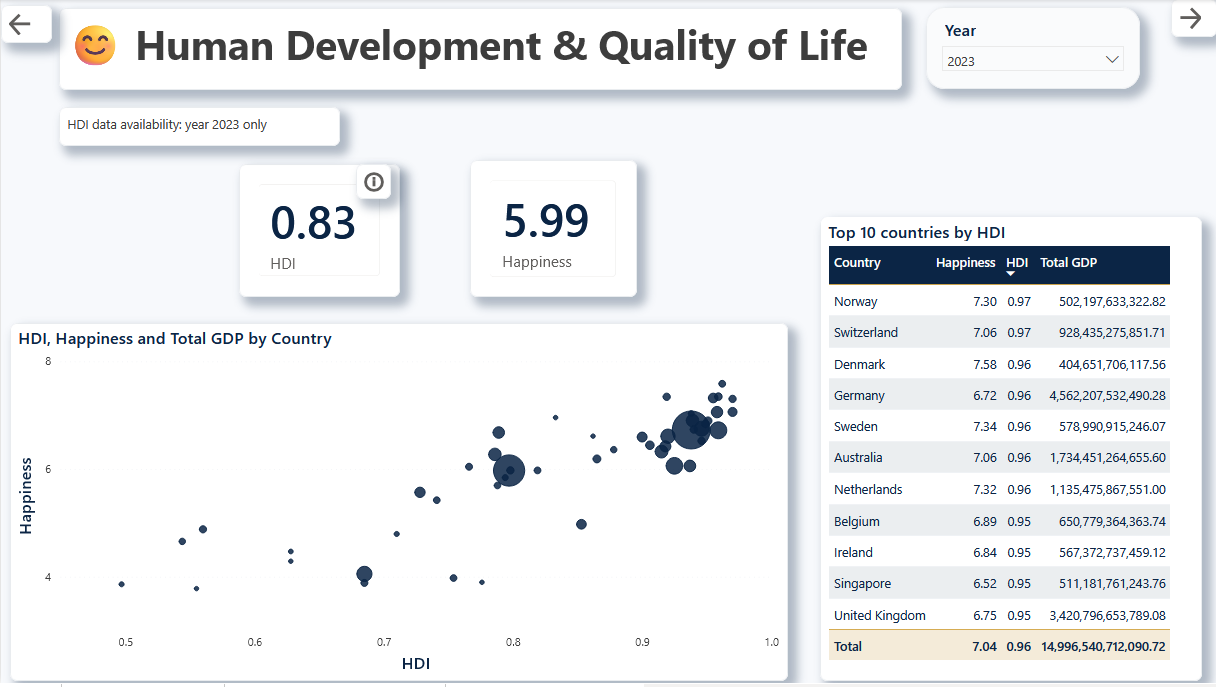

The dashboard page shown, as its layout file describes it:
{"tool":"powerbi","page":{"name":"😊 Human Development","canvas":[1280,720],"ordinal":3},"visuals":[{"type":"textbox","box":[60.4,9.6,887.8,86.4],"z":0},{"type":"slicer","fields":{"Values":["Dim_Year.Year"]},"box":[974.3,8.2,225,86.4],"z":1000},{"type":"cardVisual","title":"Total GDP","fields":{"Data":["Measure Table.Happiness"]},"box":[494,170.2,175.6,144.1],"z":2000},{"type":"cardVisual","title":"Total GDP","fields":{"Data":["Measure Table.HDI"]},"box":[249.7,174.3,170.2,140],"z":3000},{"type":"scatterChart","fields":{"X":["Measure Table.HDI"],"Y":["Measure Table.Happiness"],"Category":["Dim_Country.Country"],"Size":["Measure Table.Total GDP"]},"box":[9.6,340.3,819.2,377.4],"z":4000},{"type":"tableEx","title":"Top 10 countries by HDI","fields":{"Values":["Dim_Country.Country","Measure Table.Happiness","Measure Table.HDI","Measure Table.Total GDP"]},"box":[861.8,229.2,402.1,488.5],"z":5000},{"type":"actionButton","box":[373.2,174.3,37,37],"z":6000},{"type":"textbox","box":[60.4,112.5,296.4,41.2],"z":7000},{"type":"actionButton","box":[1232,0,48,39.8],"z":8000},{"type":"actionButton","box":[0,6.9,53.5,39.8],"z":8001}]}

Visuals, with their boxes in screenshot pixels (x1, y1, x2, y2), scaled from the page's 1280x720 canvas onto the 1216x687 screenshot:
textbox: [57,9,901,92]
slicer - Dim_Year.Year: [926,8,1139,90]
"Total GDP" cardVisual: [469,162,636,300]
"Total GDP" cardVisual: [237,166,399,300]
scatterChart - Measure Table.HDI x Measure Table.Happiness: [9,325,787,685]
"Top 10 countries by HDI" tableEx: [819,219,1201,685]
actionButton: [355,166,390,202]
textbox: [57,107,339,147]
actionButton: [1170,0,1215,38]
actionButton: [0,7,51,45]
